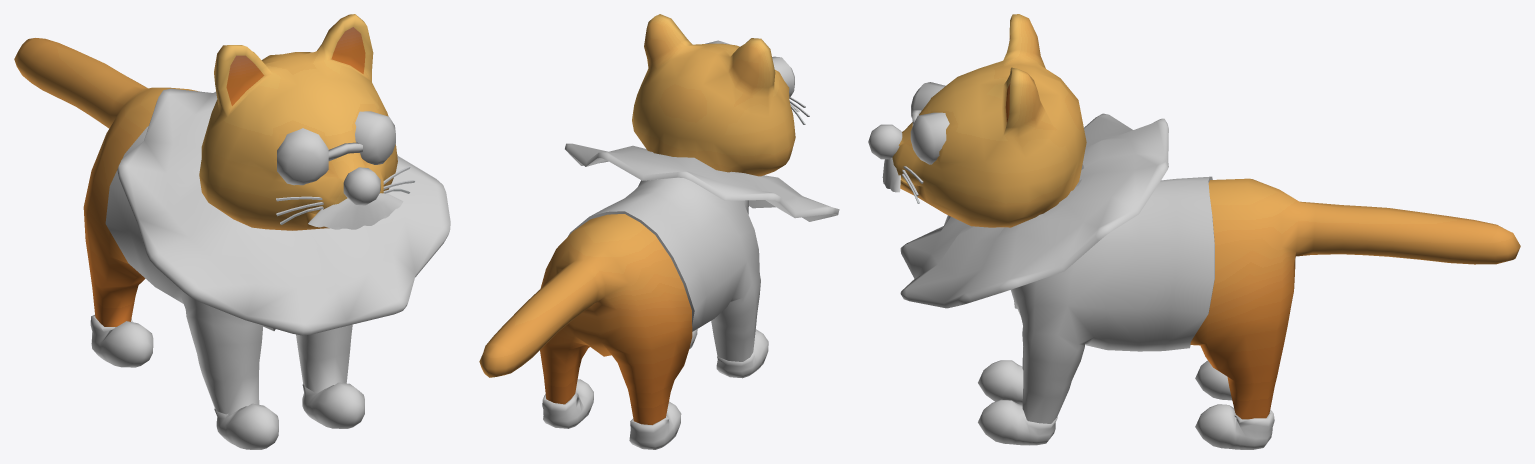
The model's file is Purrformer Cat.obj.
3 renders of one model, left to right at view 1: azimuth 30°, elevation 25°; view 2: azimuth 150°, elevation 25°; view 3: azimuth 270°, elevation 25°, orthographic. The views are drawn at different scales.
Visible parts, largest first — view 1: Clothes, Cat001; view 2: Cat001, Clothes; view 3: Clothes, Cat001.
Boxes of the visible parts, x1,y1,x2,y2 form: Clothes: (90, 88, 450, 449); Cat001: (14, 14, 414, 326); Cat001: (479, 14, 809, 424); Clothes: (542, 40, 839, 449); Clothes: (868, 82, 1274, 449); Cat001: (892, 14, 1520, 419).
Size of the model in its own units: 113 by 148 by 233.
